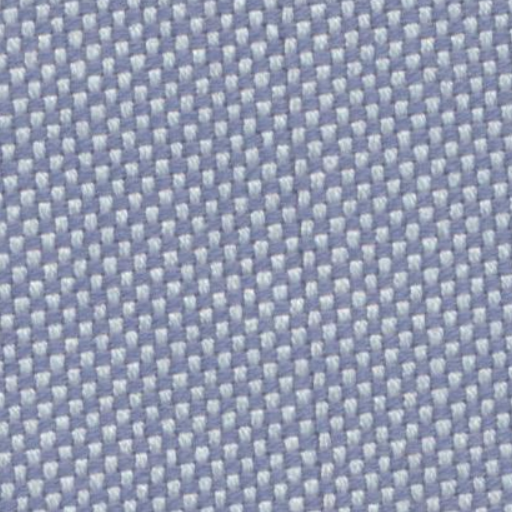TuoSha: (247, 17, 339, 499)
